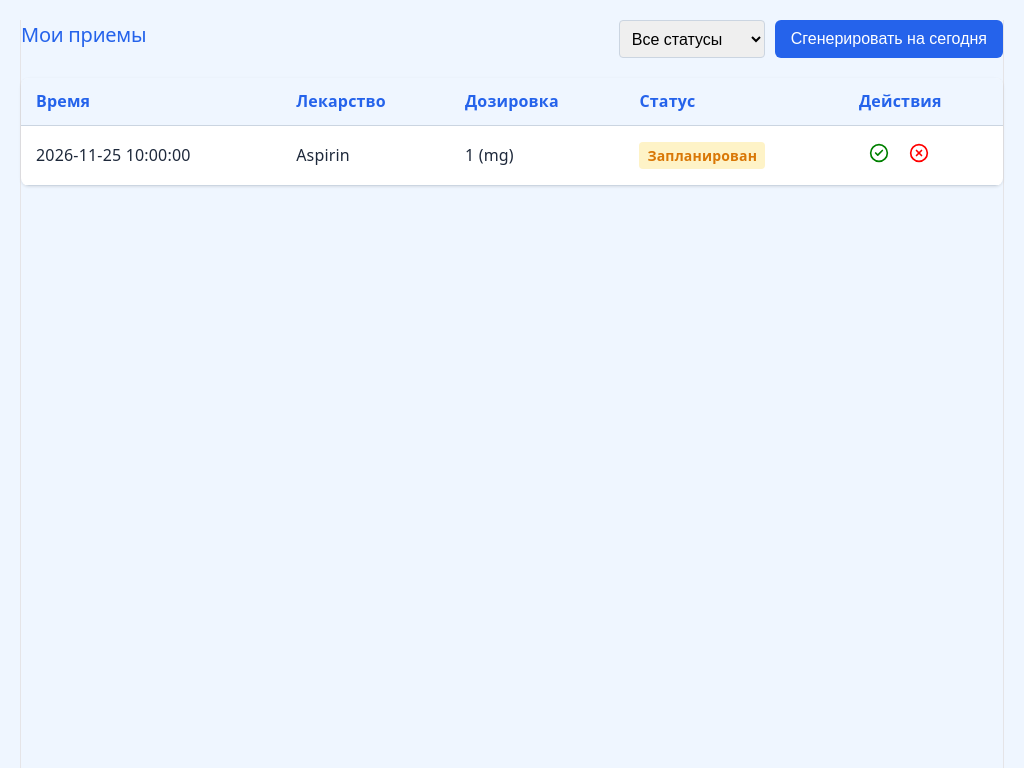
Scenario: Intakes › фильтрует по статусу
Expected: the text "Aspirin" is shown, [281,126,450,186]
Select "Принят" in the dropdown: (692, 39) [619,20,765,58]
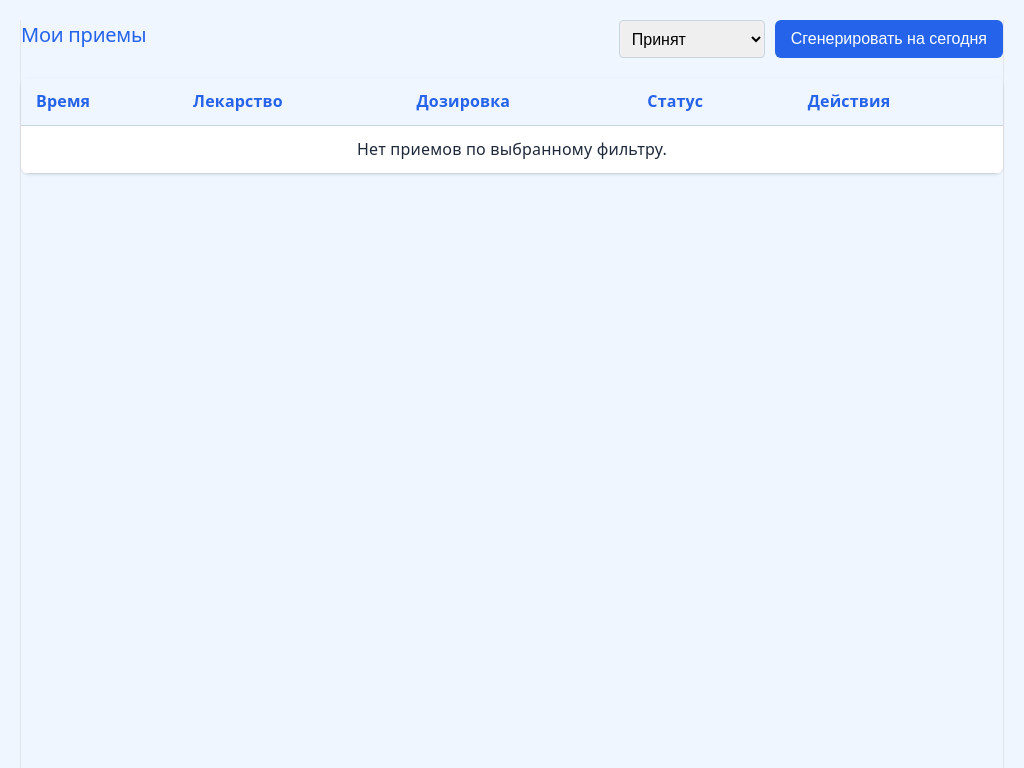
Result: the text "Aspirin" is gone
